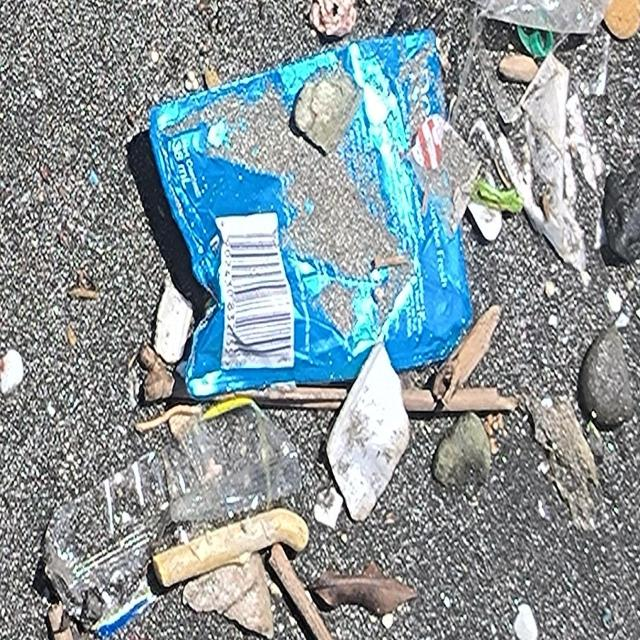plastic_waste: (143, 31, 474, 416), (41, 402, 302, 636)
